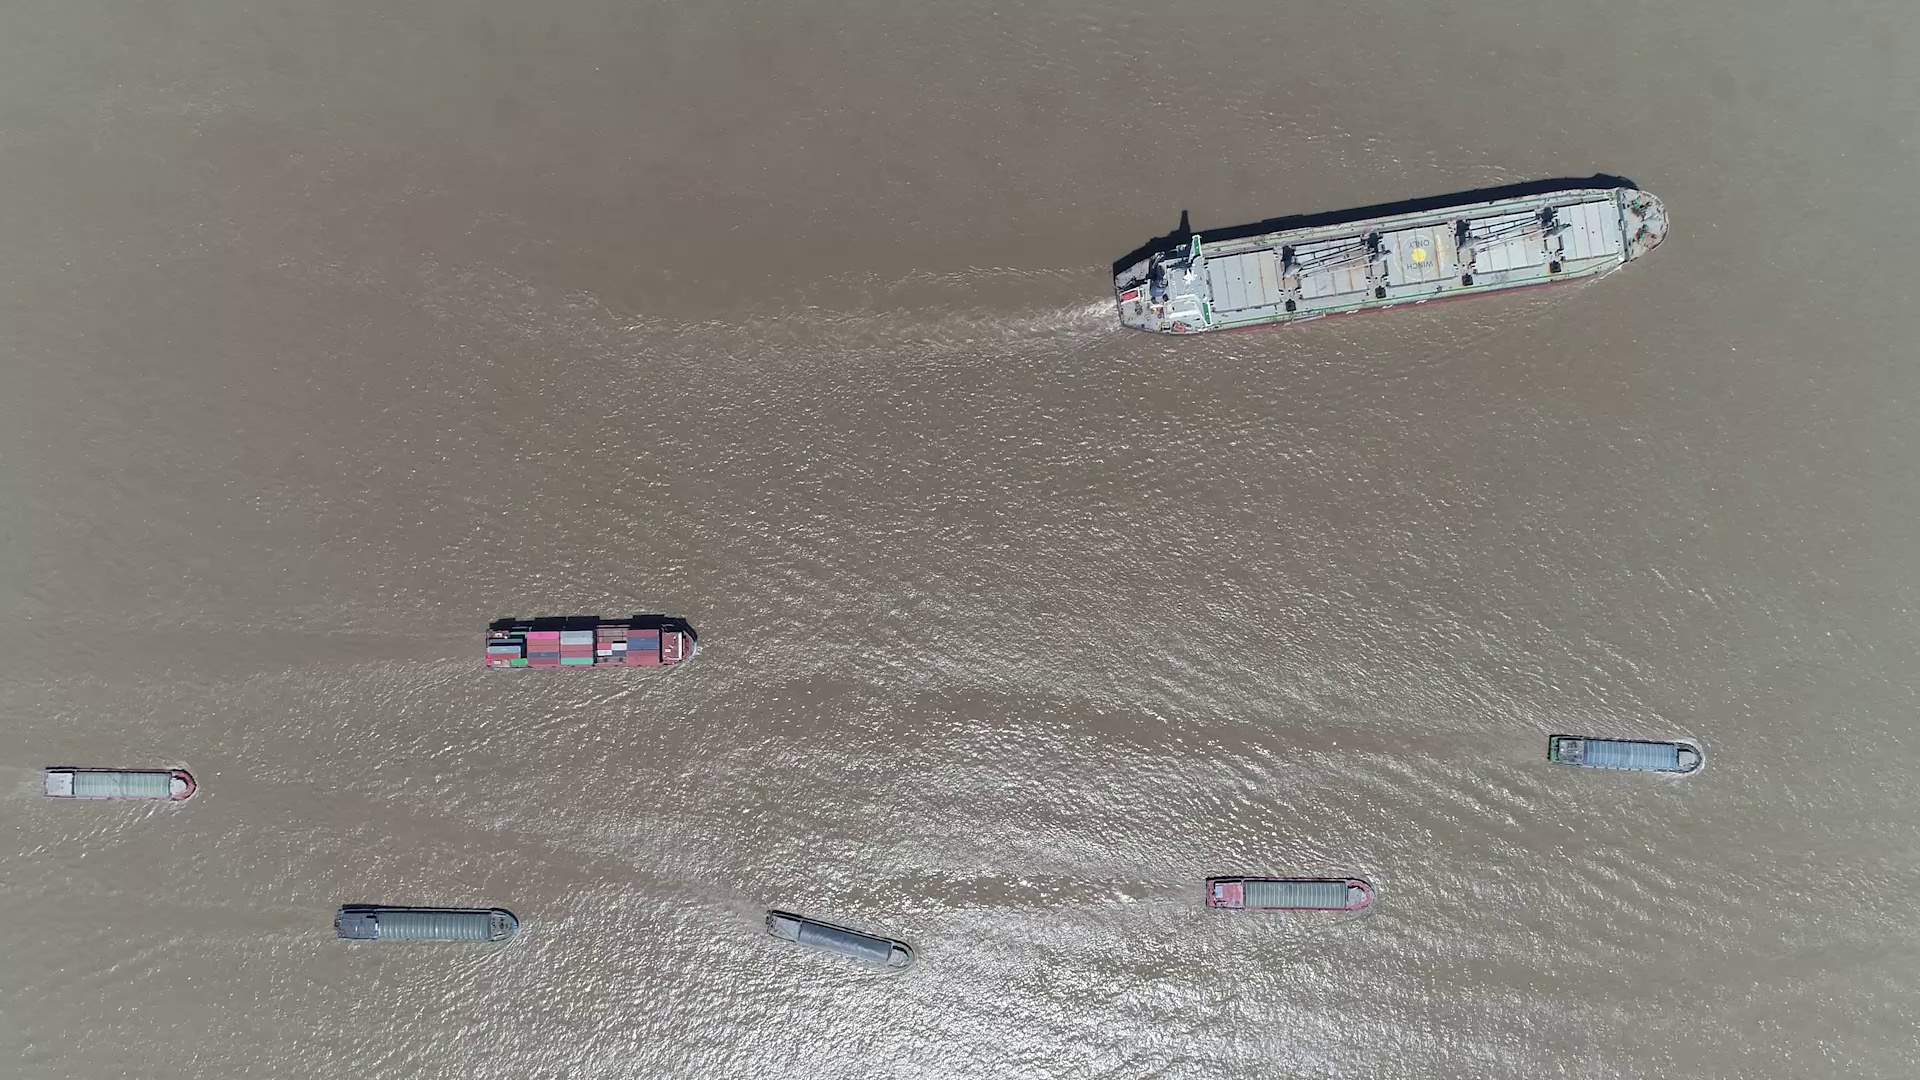ship: (1112, 187, 1664, 332), (484, 618, 696, 669), (764, 910, 913, 968), (334, 905, 517, 945), (1207, 876, 1377, 914), (1549, 735, 1702, 773), (42, 767, 195, 802)
